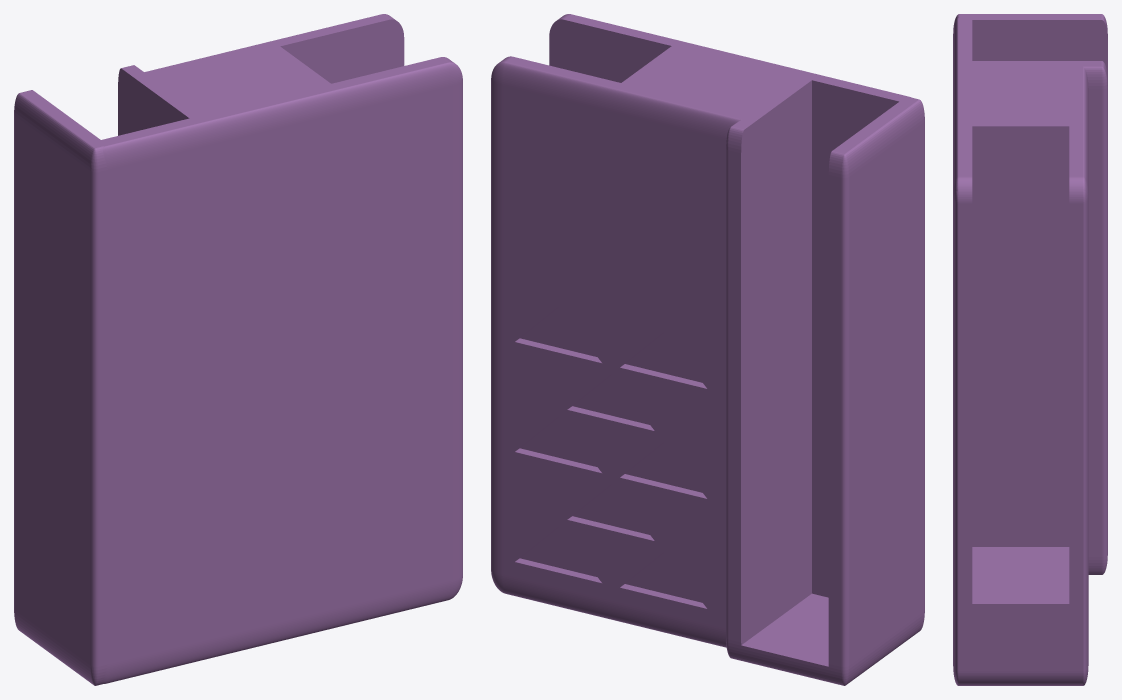
Rendered from spacer_cube_riser_90_2.glb.
3 views of the same model, side by side, from view 1: azimuth 30°, elevation 25°; view 2: azimuth 150°, elevation 25°; view 3: azimuth 270°, elevation 25° (orthographic). The views are drawn at different scales.
Visible parts, largest first — view 1: Mesh_Mesh_head_geo.001_lambert2SG.001; view 2: Mesh_Mesh_head_geo.001_lambert2SG.001; view 3: Mesh_Mesh_head_geo.001_lambert2SG.001.
Boxes of the visible parts, x1,y1,x2,y2 form: Mesh_Mesh_head_geo.001_lambert2SG.001: [14, 14, 462, 685]; Mesh_Mesh_head_geo.001_lambert2SG.001: [491, 14, 924, 685]; Mesh_Mesh_head_geo.001_lambert2SG.001: [953, 14, 1107, 685].
Size of the model in its own units: 0.0667 by 0.0921 by 0.0254.
